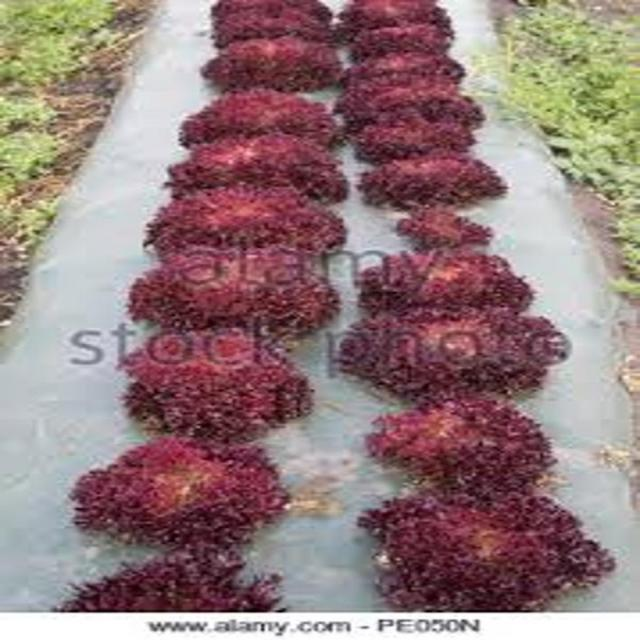Lettuce: (363, 480, 622, 612), (72, 433, 295, 550), (113, 322, 315, 445), (337, 307, 573, 403), (123, 246, 342, 336), (140, 180, 353, 270), (362, 397, 563, 488), (55, 552, 282, 615), (168, 126, 348, 202), (352, 247, 538, 315), (174, 87, 344, 153), (356, 150, 506, 213), (197, 33, 345, 92), (337, 48, 470, 98), (357, 77, 485, 123), (396, 197, 496, 255), (205, 0, 340, 41), (350, 17, 457, 63), (360, 117, 477, 158), (334, 0, 456, 31)
